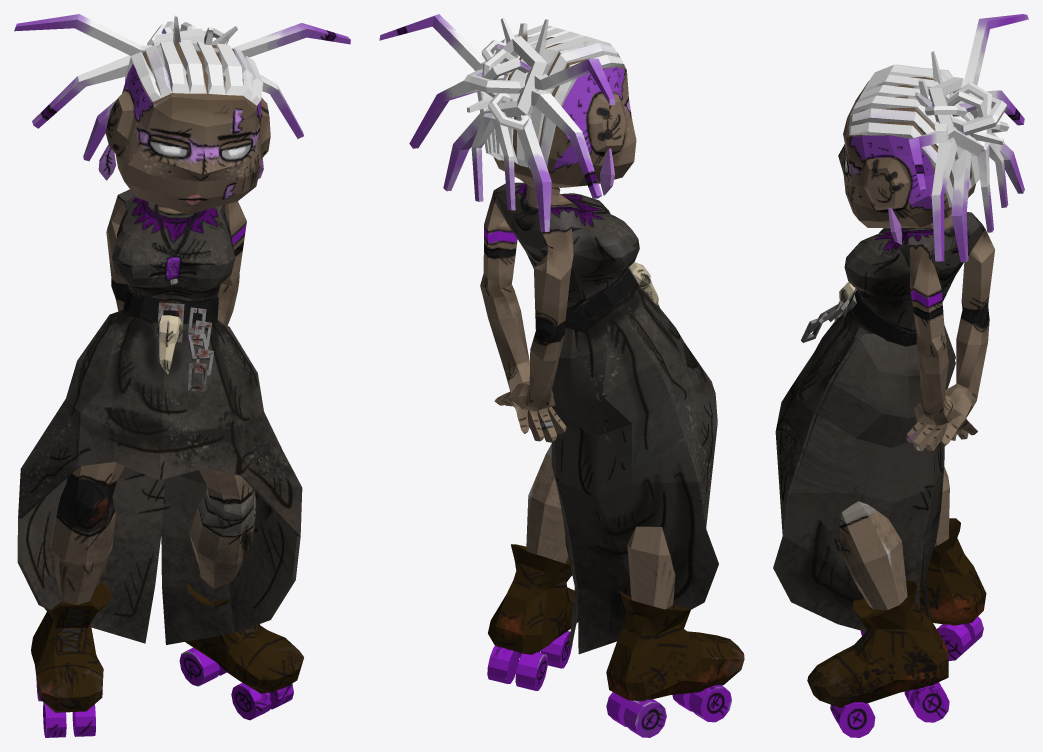
Rendered from bruja_000052.obj.
The picture shows the model from 3 angles, left to right: view 1: azimuth 30°, elevation 25°; view 2: azimuth 150°, elevation 25°; view 3: azimuth 270°, elevation 25°; orthographic projection. The views are drawn at different scales.
Visible parts, largest first — view 1: Bruja_Plane.001; view 2: Bruja_Plane.001; view 3: Bruja_Plane.001.
Part boxes in pixels (x1,y1,x2,y2): Bruja_Plane.001: [14, 14, 350, 737]; Bruja_Plane.001: [379, 14, 744, 737]; Bruja_Plane.001: [773, 14, 1028, 737].
Bounding box in the file's own units: 8.29 × 16.11 × 5.67.
